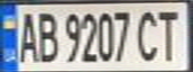0: (97, 7, 118, 63)
2: (78, 8, 100, 63)
7: (112, 7, 136, 62)
9: (60, 7, 81, 63)
A: (12, 7, 39, 63)
B: (33, 7, 60, 63)
C: (133, 6, 163, 63)
T: (154, 5, 187, 62)
